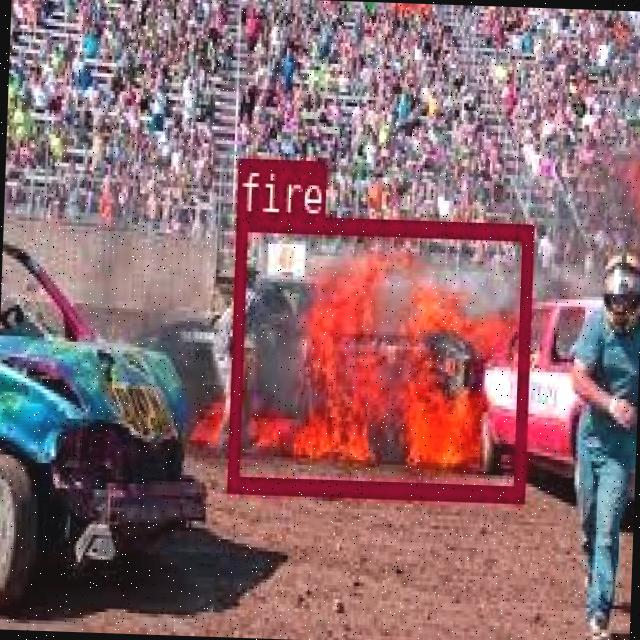fire: (226, 212, 532, 500)
